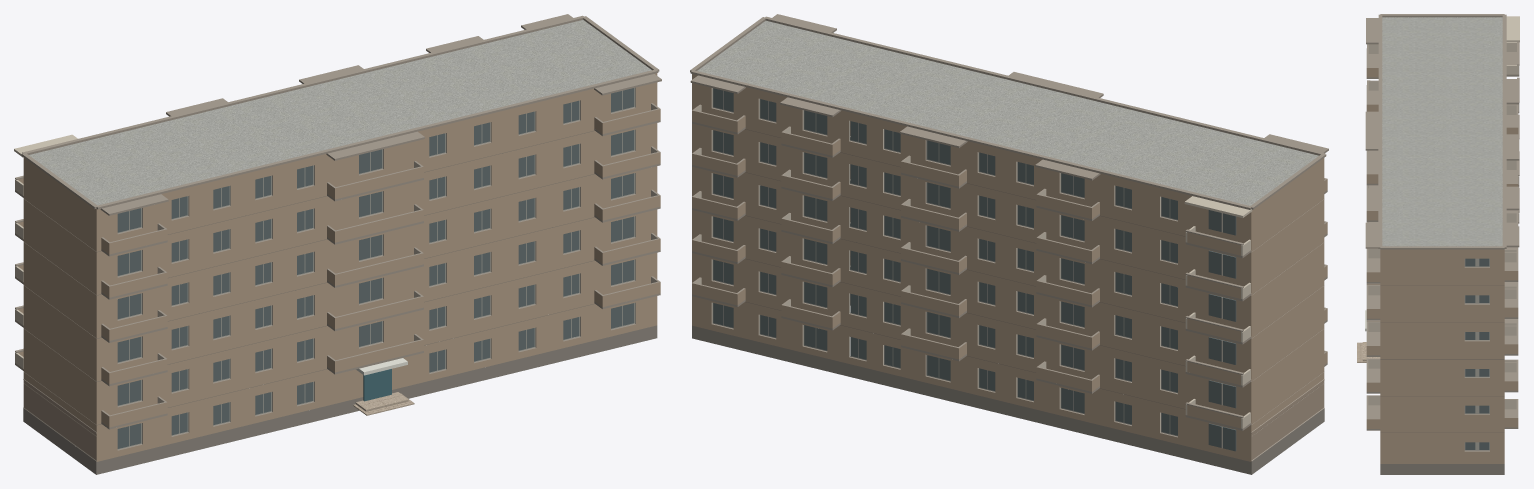
Rendered from chunk-dorm-way-759147054.glb.
3 views of the same model, side by side, from view 1: azimuth 30°, elevation 25°; view 2: azimuth 150°, elevation 25°; view 3: azimuth 270°, elevation 25° (orthographic). The views are drawn at different scales.
Parts seen in each view (by area): view 1: chunk-dorm-way-759147054; view 2: chunk-dorm-way-759147054; view 3: chunk-dorm-way-759147054.
Boxes of the visible parts, left/top/right/bottom form: chunk-dorm-way-759147054: left=14, top=14, right=661, bottom=474; chunk-dorm-way-759147054: left=690, top=14, right=1328, bottom=474; chunk-dorm-way-759147054: left=1357, top=14, right=1519, bottom=474.
Size of the model in its own units: 45.05 by 20.45 by 13.25.
Materials: 12 (2 with a texture image).
